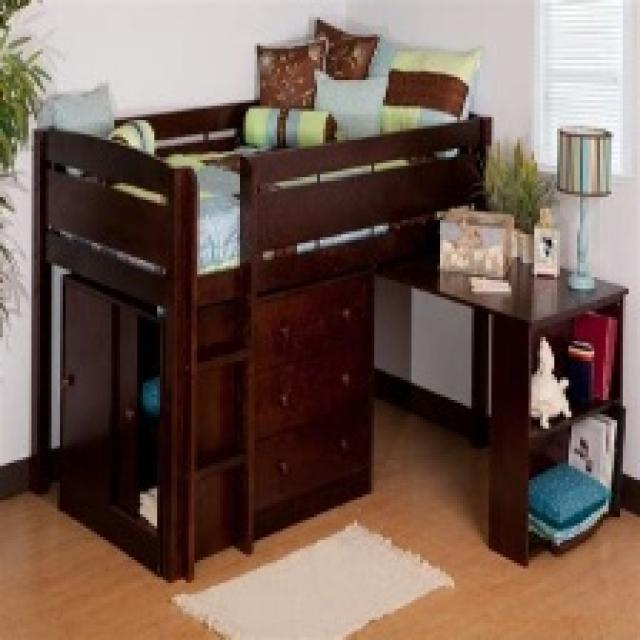Bed: (26, 94, 491, 583)
